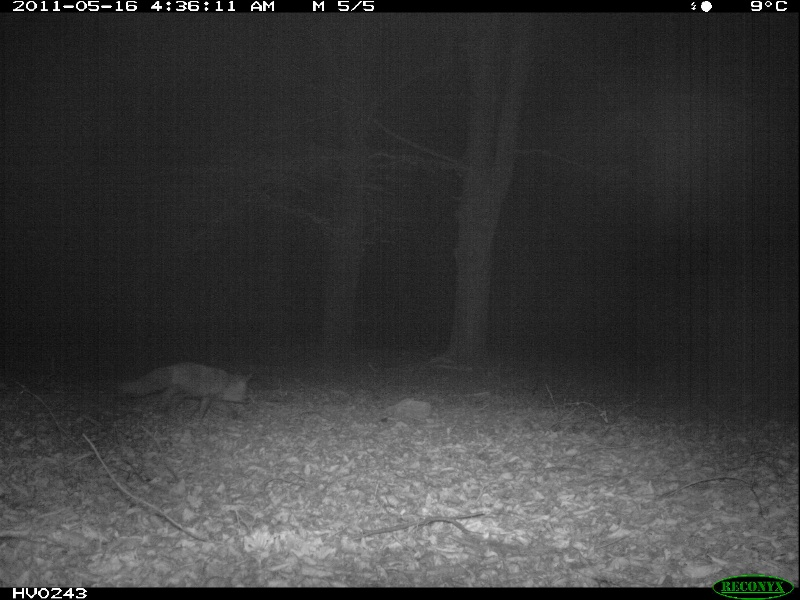fox: (103, 355, 257, 416)
